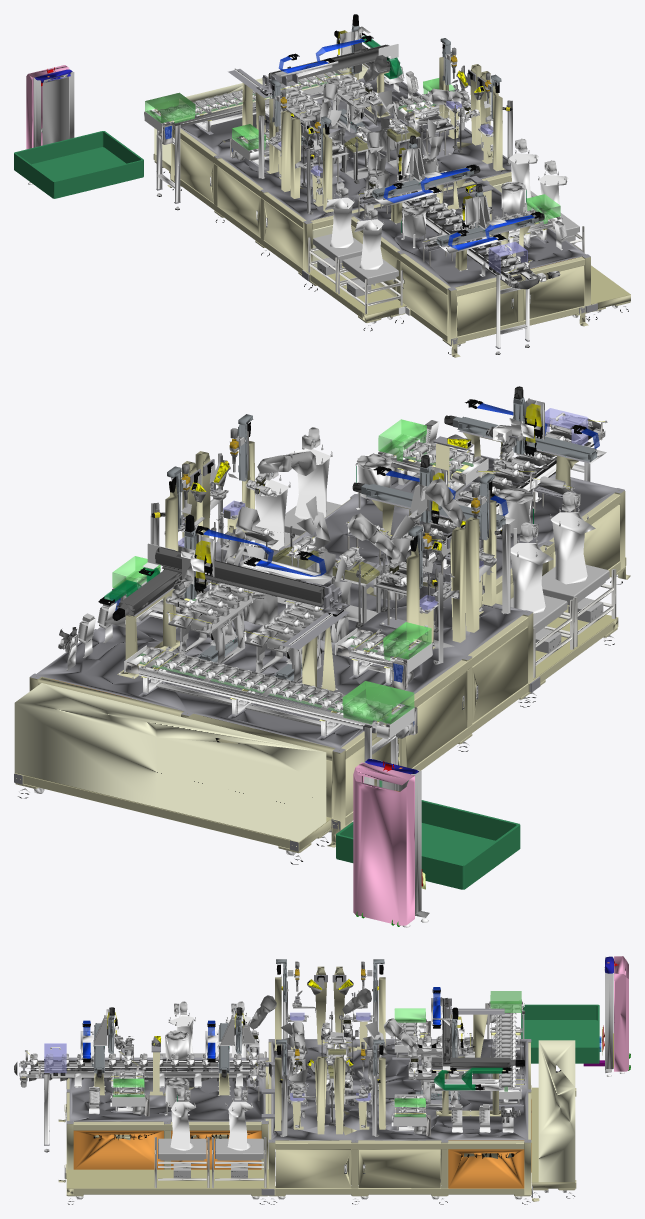
The model's file is cell_cf.glb.
The picture shows the model from 3 angles, top to bottom: view 1: azimuth 30°, elevation 25°; view 2: azimuth 150°, elevation 25°; view 3: azimuth 270°, elevation 25°; orthographic projection. The views are drawn at different scales.
Size of the model in its own units: 4.2 by 1.93 by 6.69.
